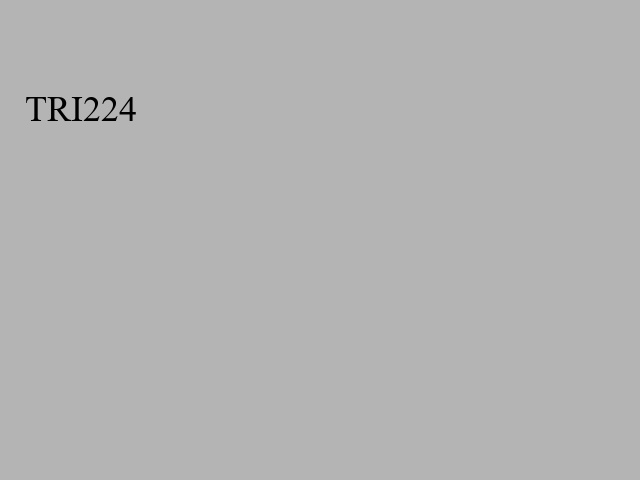OCR_AREA: (21, 93, 141, 125)
